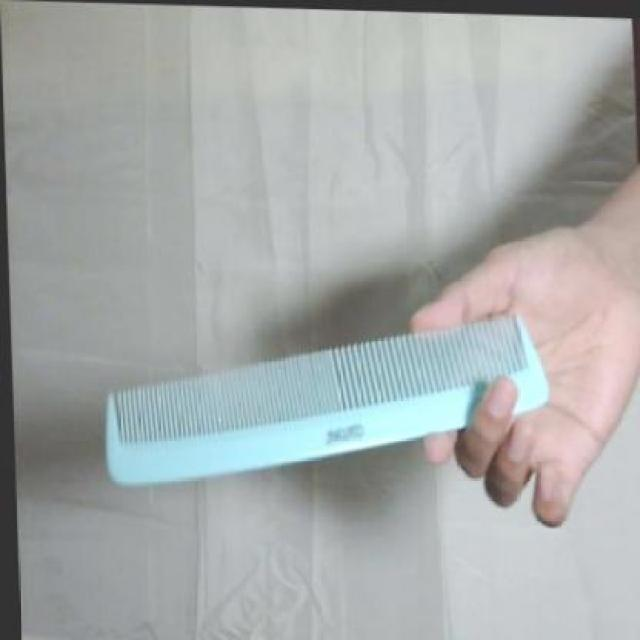Plastic: (102, 299, 553, 492)
